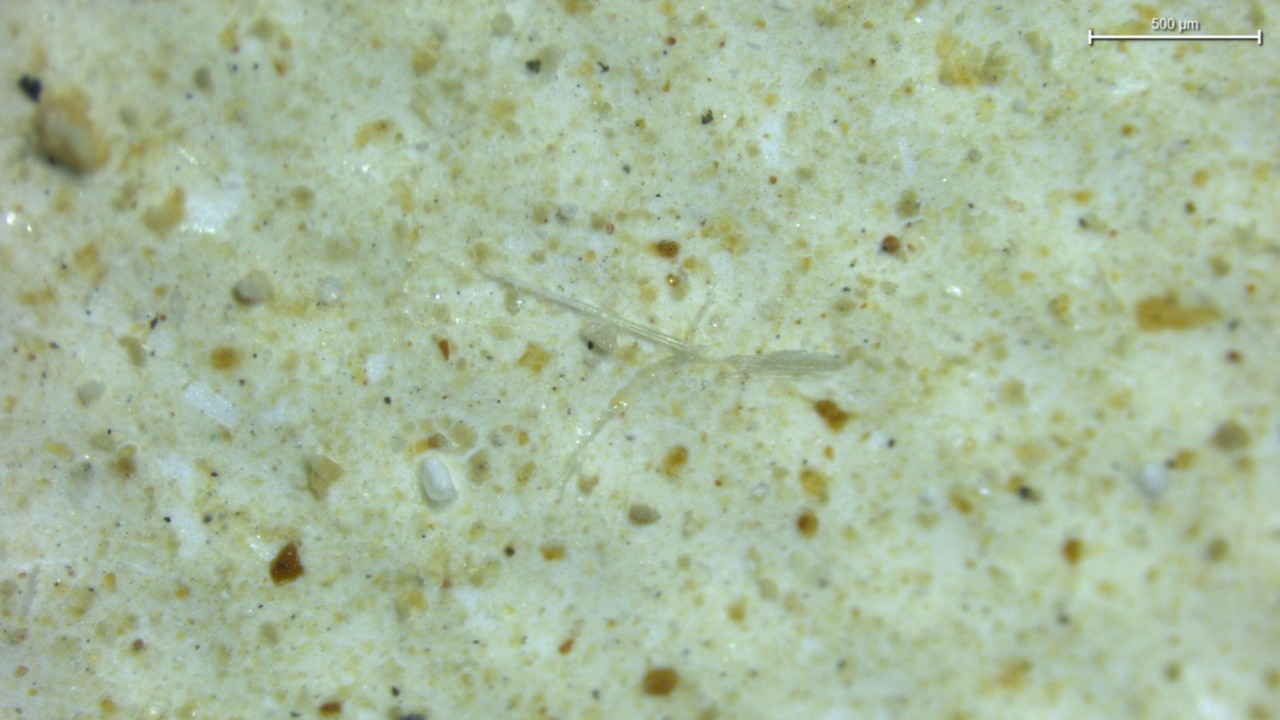microplastic_fragment: (418, 458, 457, 507), (233, 270, 272, 305), (580, 323, 617, 352)
